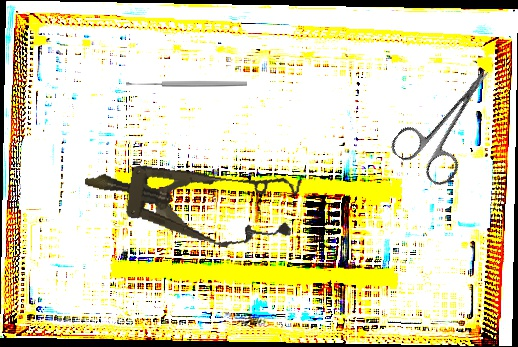Iris Scissors: (387, 51, 516, 191)
Speculum: (77, 140, 303, 259)
Surgical Spoon: (126, 80, 247, 87)
